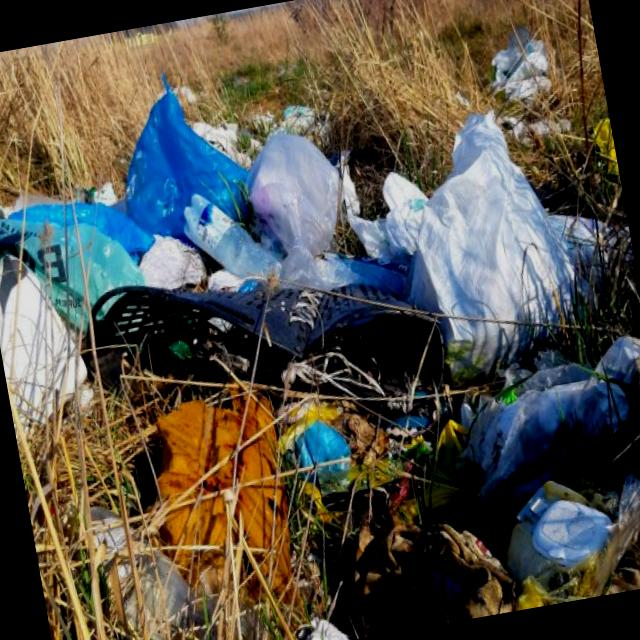garbage: (8, 57, 611, 640)
